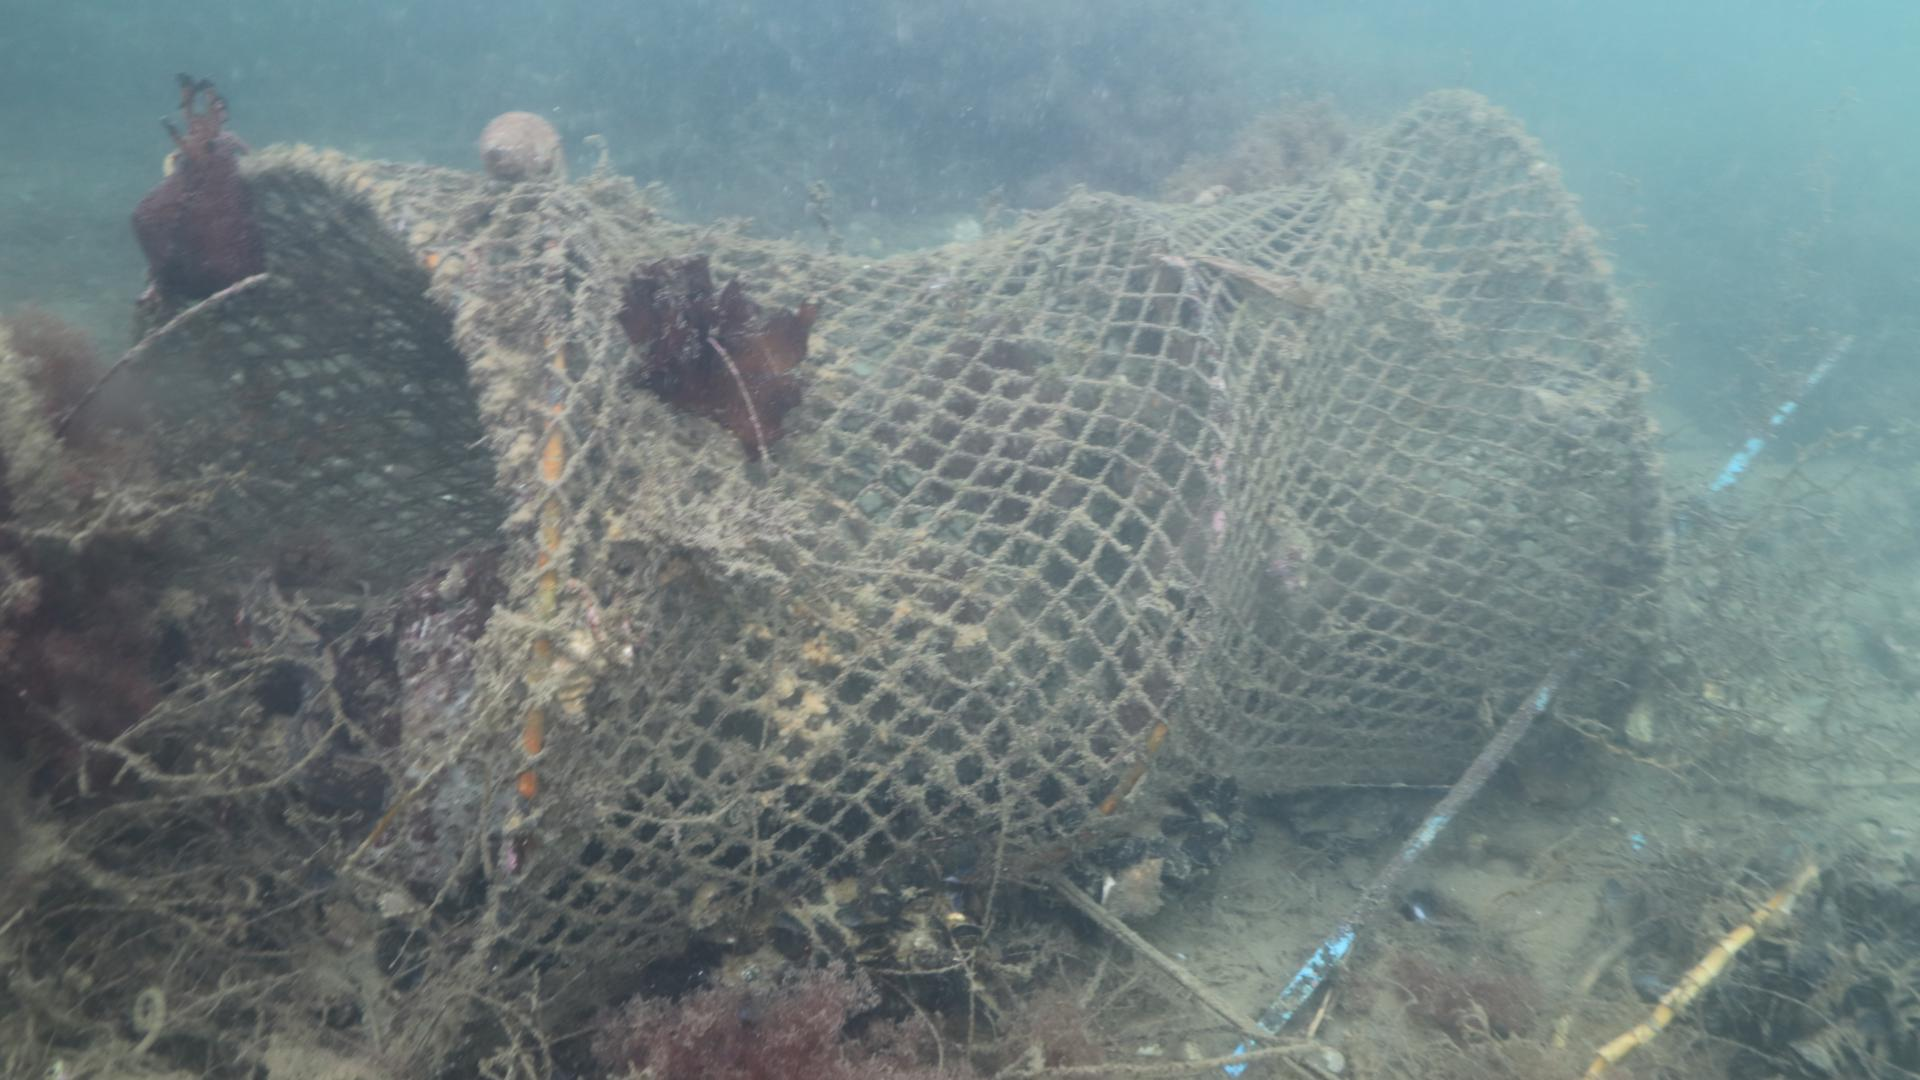rope: (0, 326, 76, 526)
spring fish trap: (131, 84, 1676, 1064)
